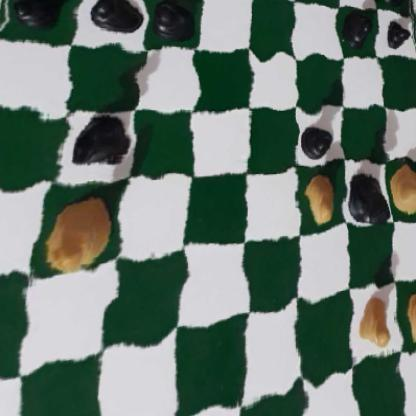black-bishop: (62, 111, 136, 173)
black-pawn: (144, 0, 196, 41), (86, 0, 139, 37), (10, 0, 73, 30), (299, 116, 334, 160), (340, 8, 374, 50), (381, 14, 412, 51)
black-queen: (347, 160, 393, 232)
black-rook: (378, 0, 413, 7)
white-bishop: (37, 203, 116, 279)
white-king: (392, 162, 416, 221)
white-pawn: (357, 287, 395, 360), (304, 167, 338, 222), (404, 283, 416, 354)
